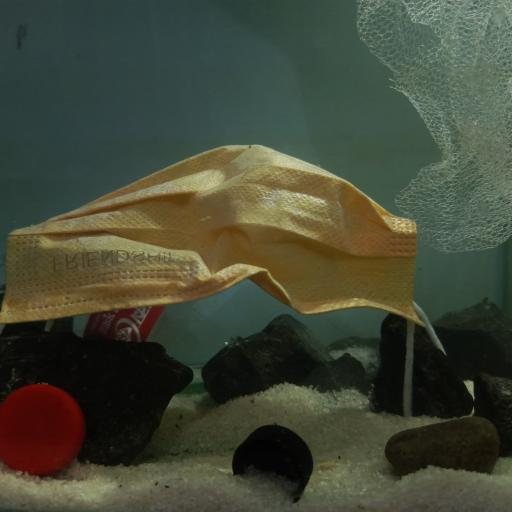bottle_cap: (0, 386, 81, 475), (232, 422, 310, 498)
mask: (4, 143, 476, 411)
net: (352, 0, 512, 258)
plastic_bottle: (51, 299, 235, 362)
